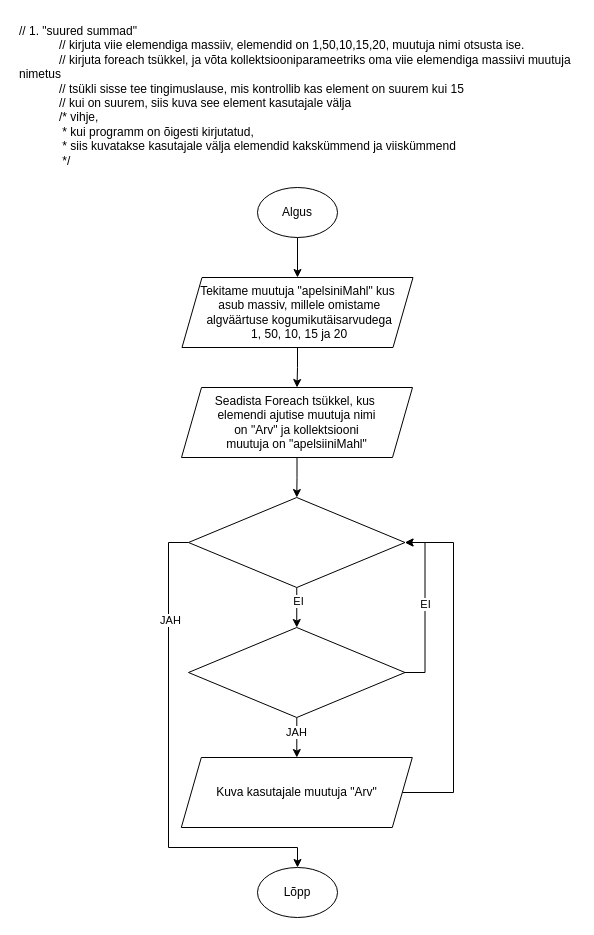
Image size: 594x935. Some labels were removed from this diagram. Each missing label, with the centre of its shape:
Kas ajutises muutujas "Arv" on suurem kui 15?: [296,672]
Kas eelmine element oli kollektsioonis viimane element?: [296,542]
